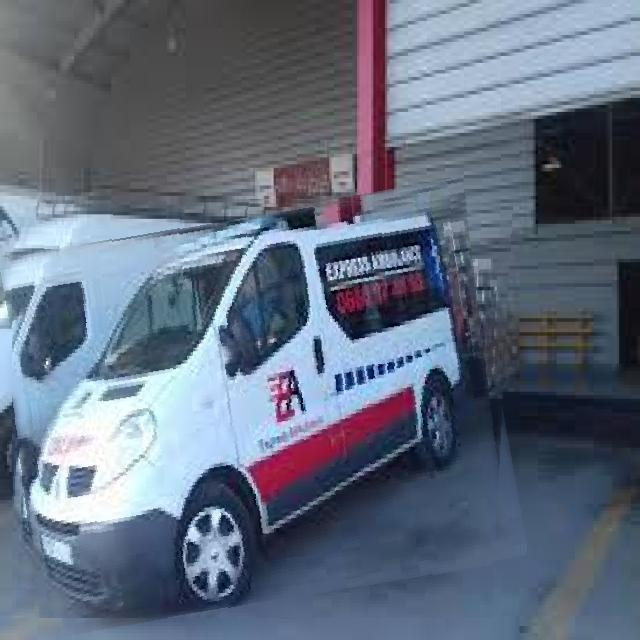ambulance: (12, 196, 513, 618)
